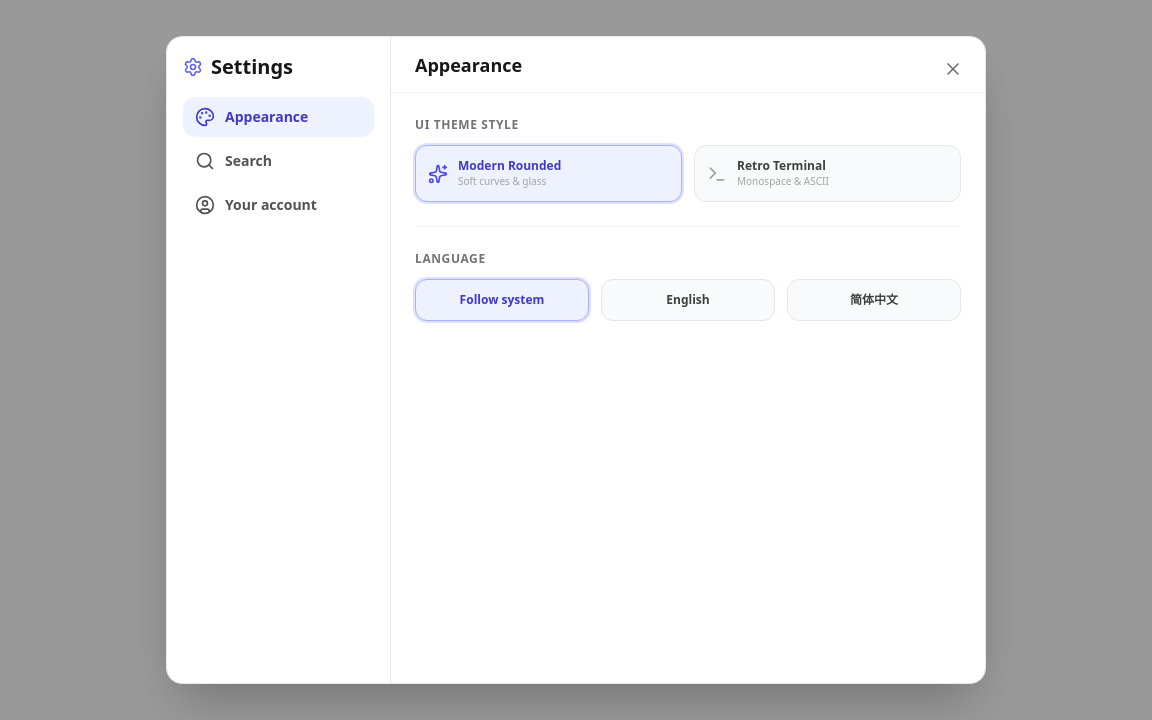
SettingsModal › groups › shows a viewer the Appearance, Search and account groups only
The width and height of the screenshot is (1152, 720).
What coordinates should you click on to do the following:
click the tab "Your account"
I would click on:
 (278, 205)
Its box is [183,185,374,225].
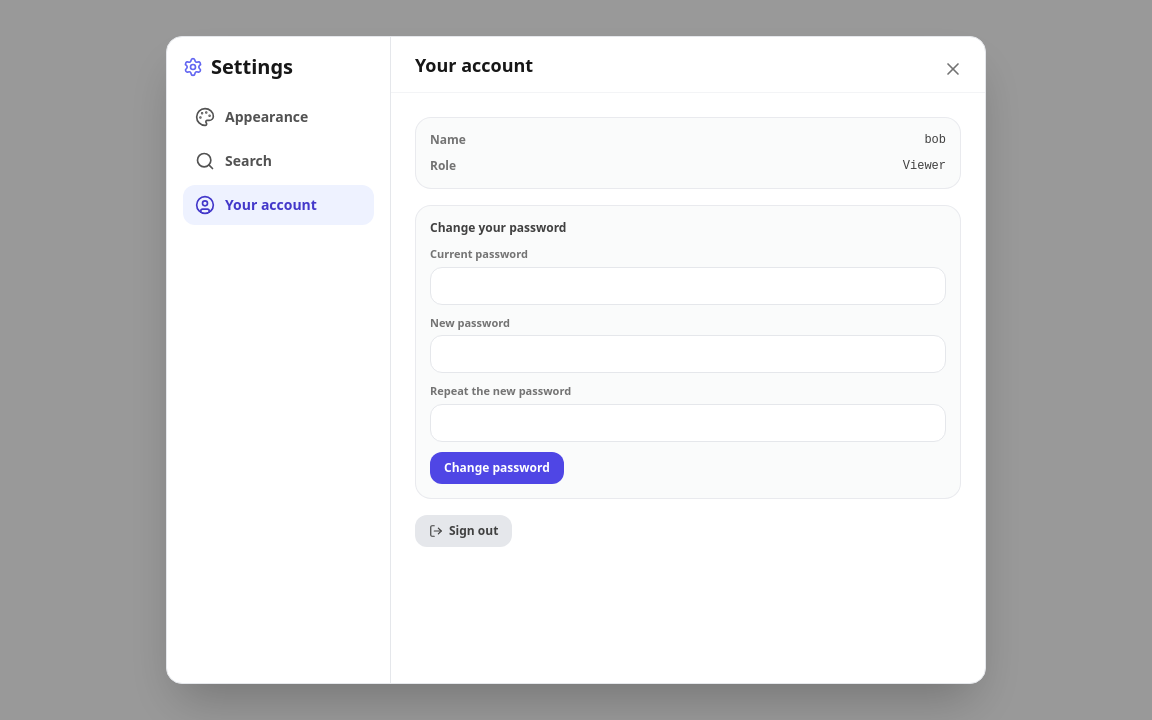
Expected: the heading "Your account" is shown, [415,50,533,78]
Expected: the text "bob" is shown, [924,132,946,148]
